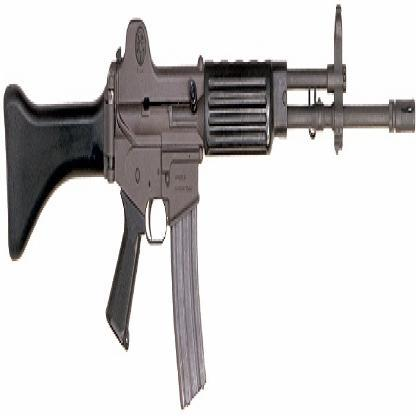gun: (1, 1, 415, 412)
